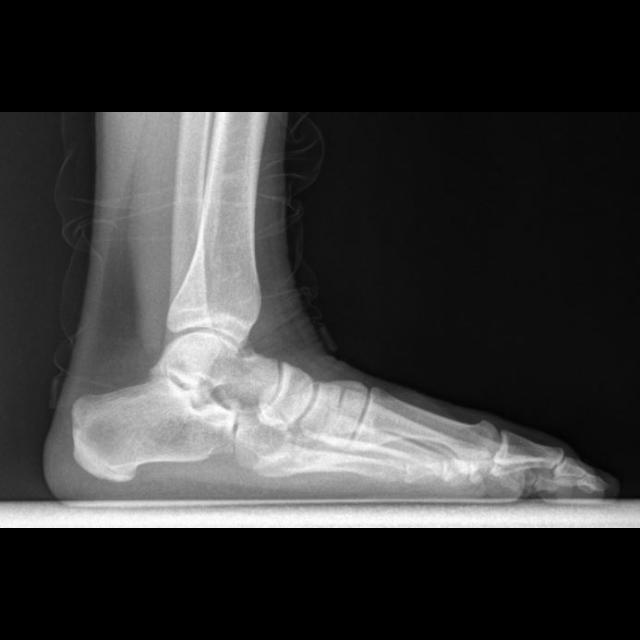a: (71, 374, 235, 479)
b: (260, 361, 315, 430)
c: (346, 386, 499, 466)
